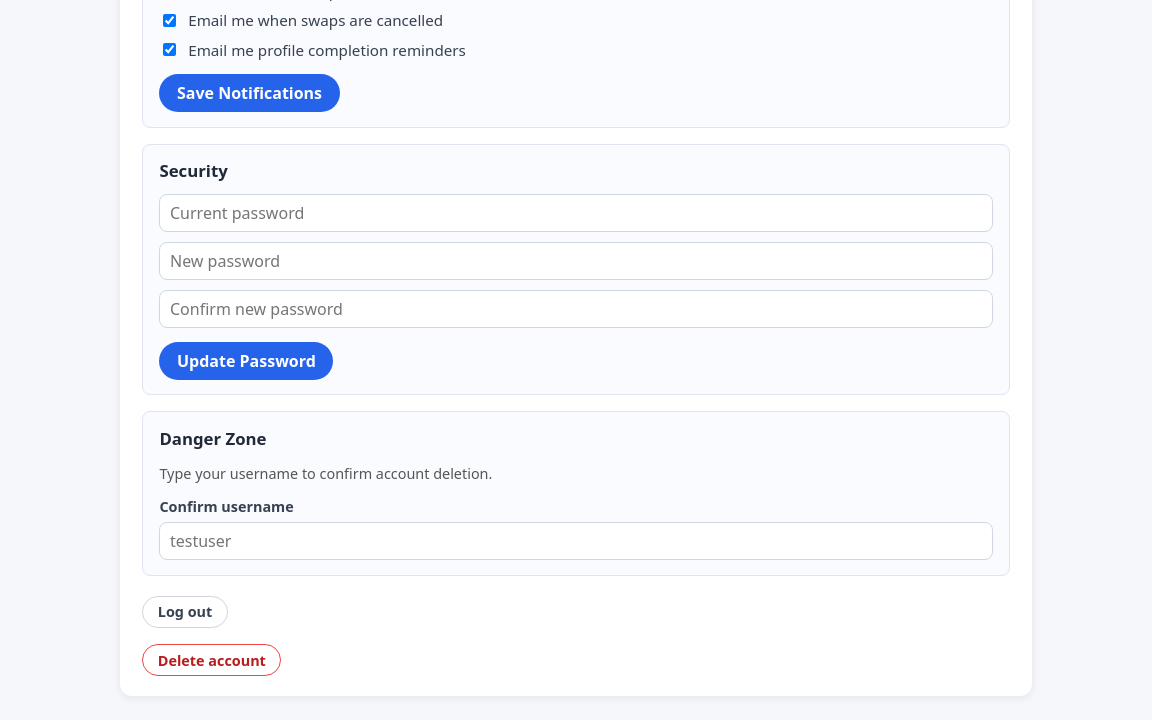
Scenario: Settings Page › validates password form before submit
(page scrolled)
Step 1. Click the button "Update Password" → (246, 361), box [159,342,334,380]
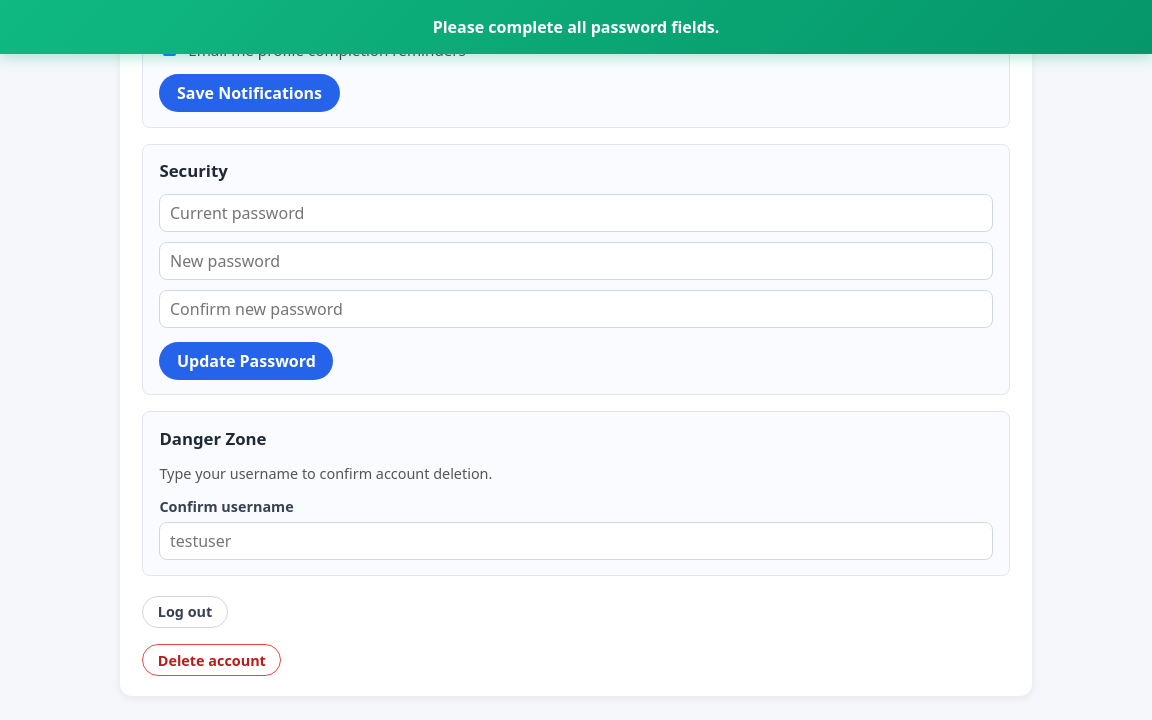
Now the text "Please complete all password fields." is shown, box [0,0,1151,54]
